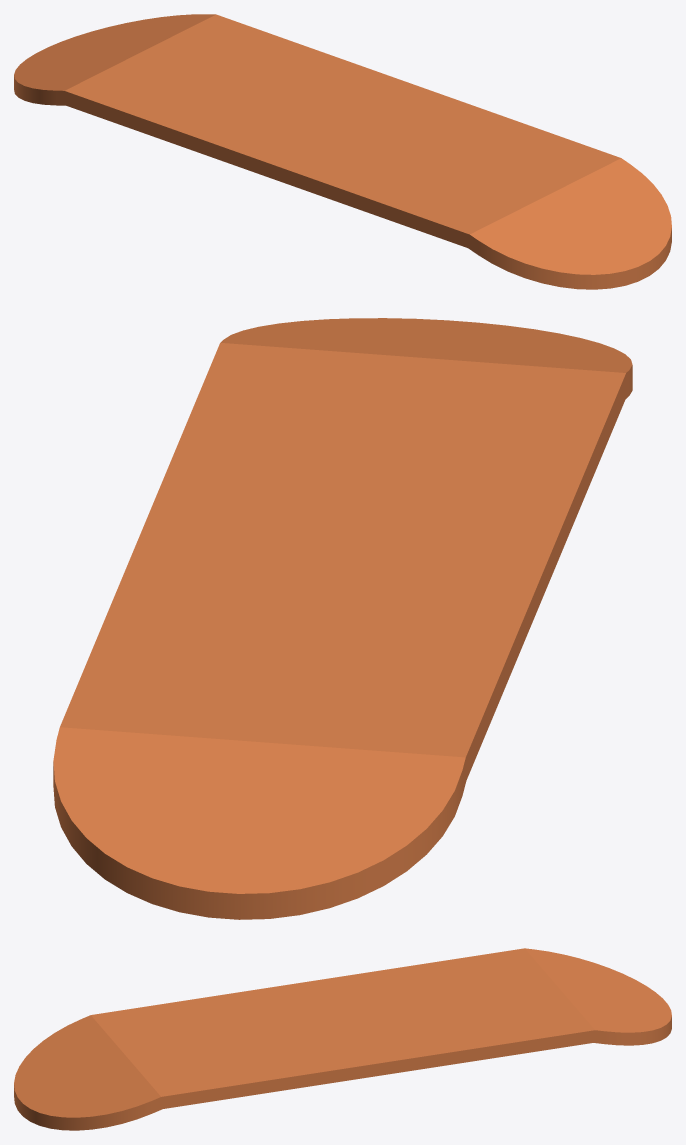
The model's file is Board.glb.
3 views of the same model, one above another, from view 1: azimuth 30°, elevation 25°; view 2: azimuth 150°, elevation 25°; view 3: azimuth 270°, elevation 25° (orthographic). The views are drawn at different scales.
Visible parts, largest first — view 1: Board; view 2: Board; view 3: Board.
Boxes of the visible parts, x1,y1,x2,y2 form: Board: (14,14,671,289); Board: (53,318,632,919); Board: (14,948,671,1130).
Size of the model in its own units: 14.55 by 1.8 by 25.86.
